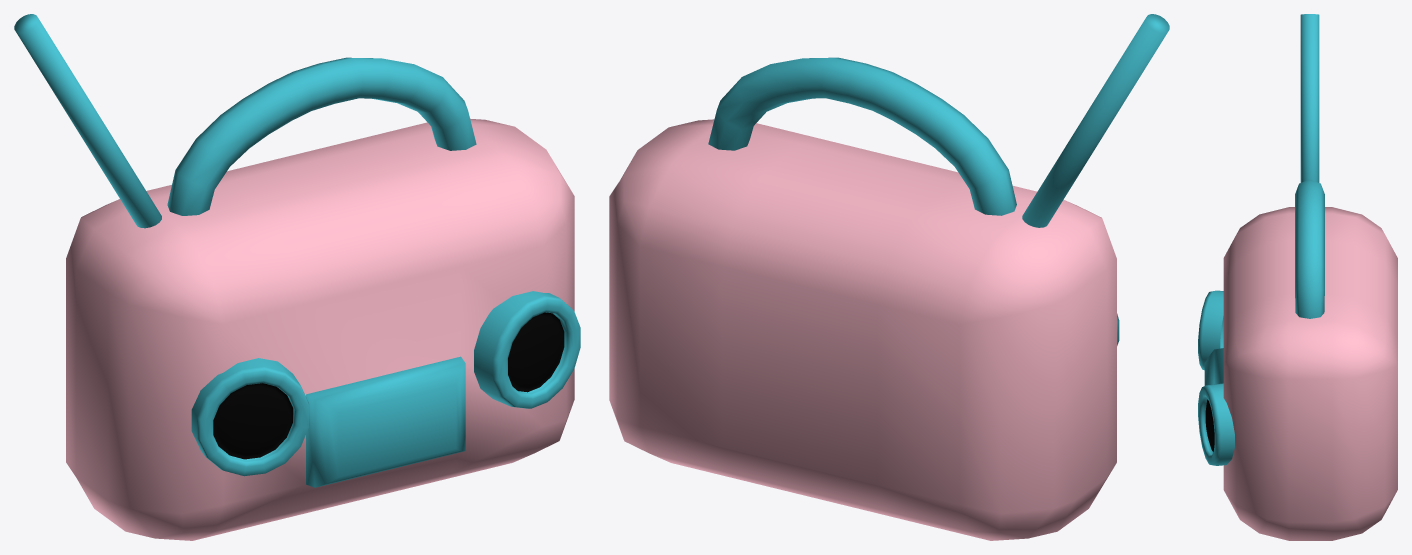
The model's file is Radio_PastelPop.glb.
3 renders of one model, left to right at view 1: azimuth 30°, elevation 25°; view 2: azimuth 150°, elevation 25°; view 3: azimuth 270°, elevation 25°, orthographic. The views are drawn at different scales.
Visible parts, largest first — view 1: Radio_PastelPop; view 2: Radio_PastelPop; view 3: Radio_PastelPop.
Boxes of the visible parts, x1,y1,x2,y2 form: Radio_PastelPop: (14,14,580,540); Radio_PastelPop: (609,14,1169,540); Radio_PastelPop: (1198,14,1397,540).
Bounding box in the file's own units: 0.3464 × 0.3344 × 0.1632.
1 material, 1 textured.
